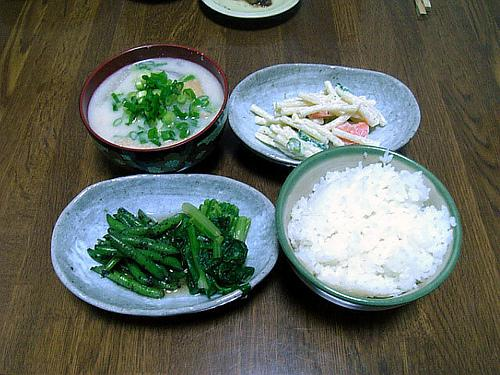plate: (51, 174, 278, 316)
rice: (288, 163, 456, 297)
